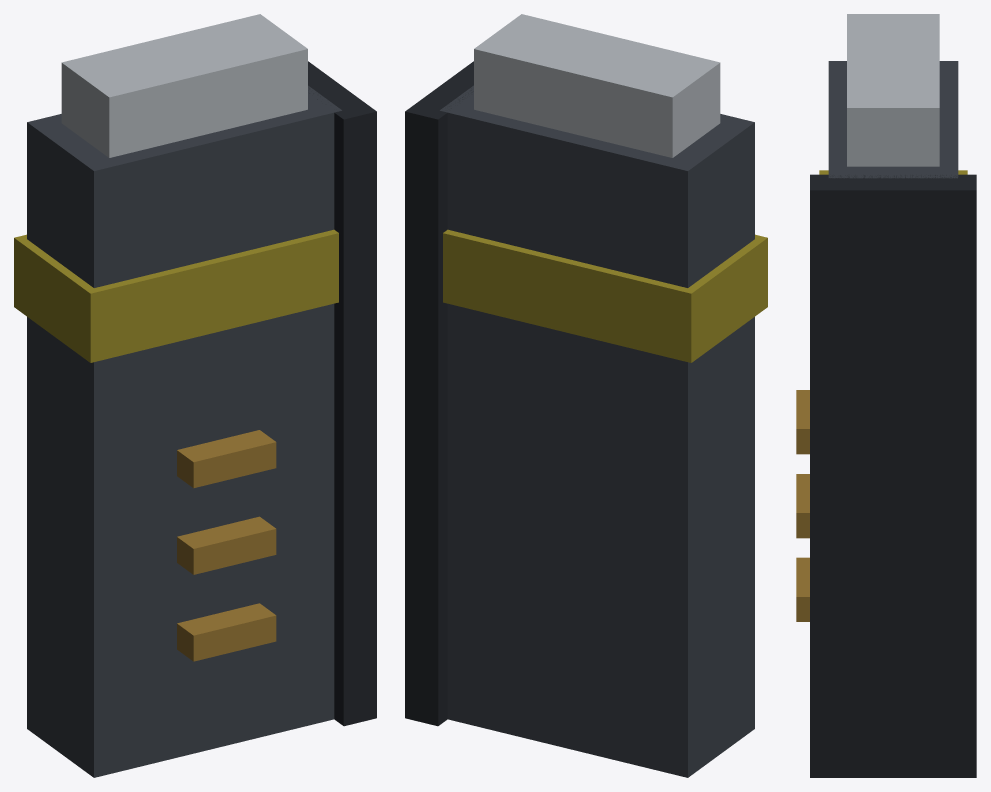
File: flechette-mag-fragmentation.lod.glb
The picture shows the model from 3 angles, left to right: view 1: azimuth 30°, elevation 25°; view 2: azimuth 150°, elevation 25°; view 3: azimuth 270°, elevation 25°; orthographic projection. The views are drawn at different scales.
Visible parts, largest first — view 1: m; view 2: m; view 3: m.
Boxes of the visible parts, bbox=[...] form: m: bbox=[14, 14, 376, 777]; m: bbox=[405, 14, 767, 777]; m: bbox=[796, 14, 976, 777].
Bounding box in the file's own units: 0.0309 × 0.07 × 0.0177.
